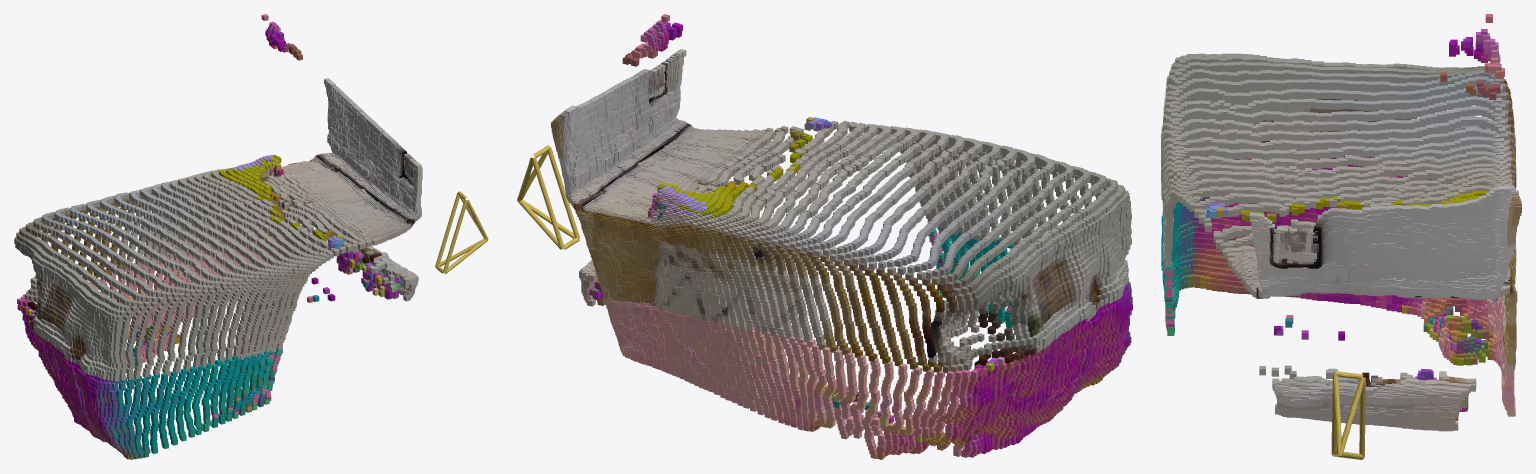
The model's file is pred_2-compressed.glb.
3 views of the same model, side by side, from view 1: azimuth 30°, elevation 25°; view 2: azimuth 150°, elevation 25°; view 3: azimuth 270°, elevation 25° (orthographic). The views are drawn at different scales.
Size of the model in its own units: 5.17 by 3.54 by 2.58.
